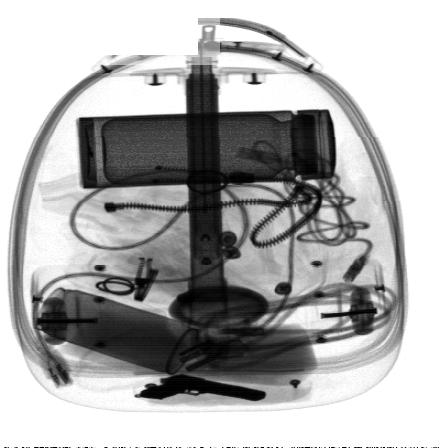Gun: (137, 372, 267, 402)
